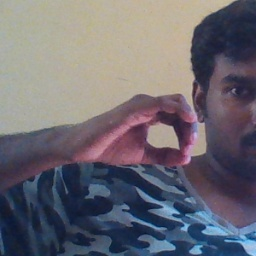O: (78, 88, 205, 178)
